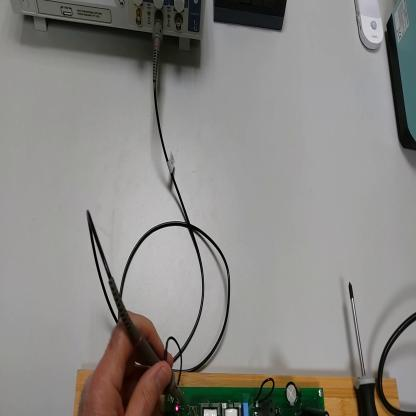hand: (81, 310, 175, 416)
high voltage board: (165, 377, 330, 416)
oscilloscope: (22, 1, 206, 52)
oscilloscope probe tip: (107, 276, 189, 412)
screwdriver-: (348, 279, 379, 413)
welder station: (386, 2, 416, 158)
working area: (71, 370, 400, 415)
